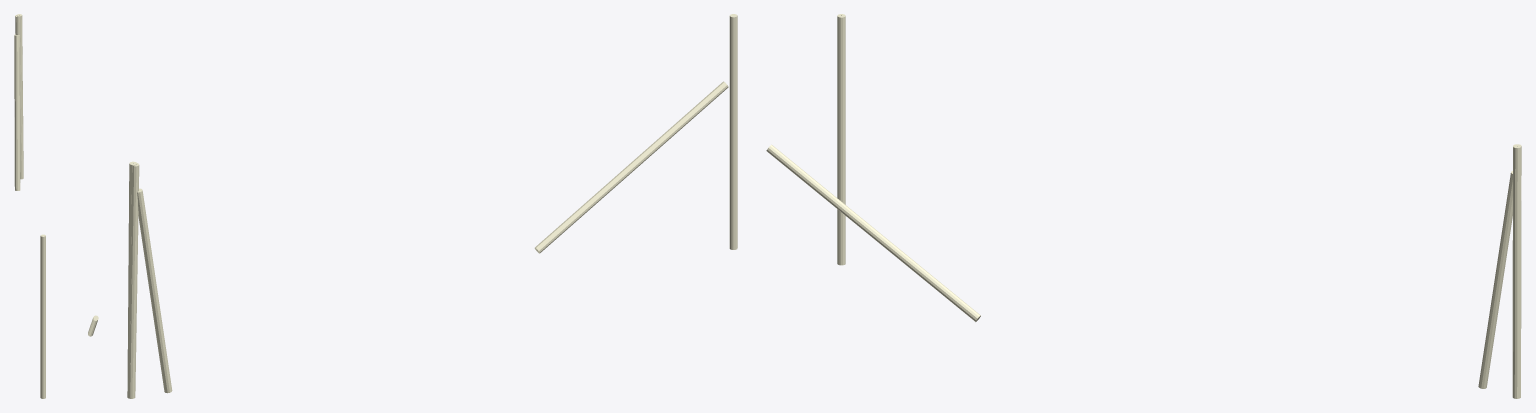
The model's file is tile_128.glb.
The picture shows the model from 3 angles, left to right: view 1: azimuth 30°, elevation 25°; view 2: azimuth 150°, elevation 25°; view 3: azimuth 270°, elevation 25°; orthographic projection. The views are drawn at different scales.
Bounding box in the file's own units: 10.5 × 8.53 × 22.08.
